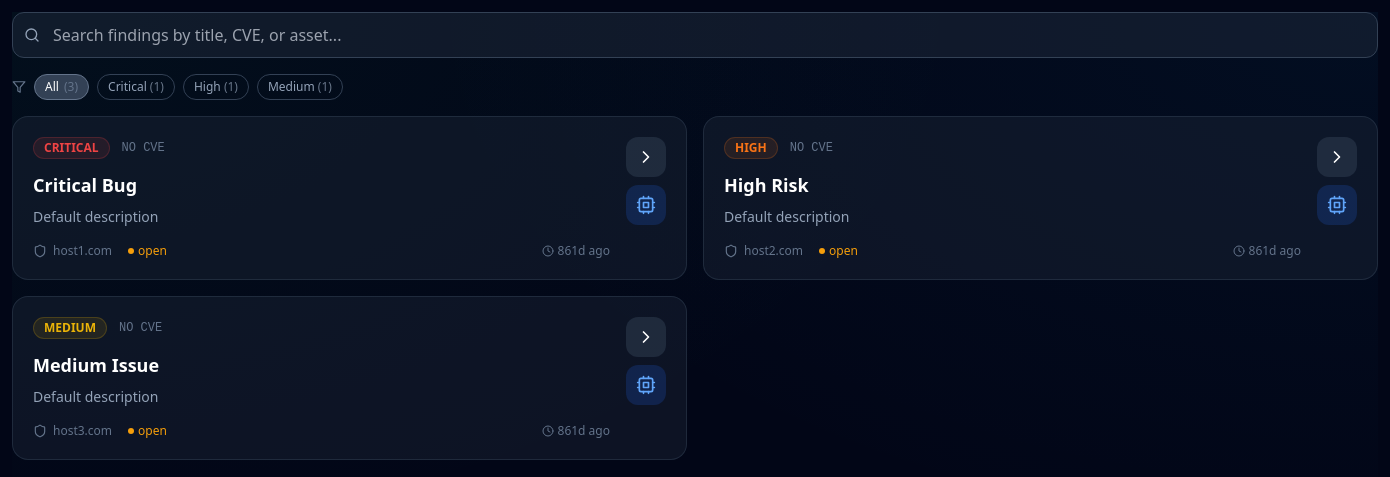
Scenario: VulnerabilityList — severity filter pills › filters vulns when severity pill clicked
Note: Click the "critical" severity pill button
Click the button "critical (1)".
click(136, 87)  # box [97,74,175,100]
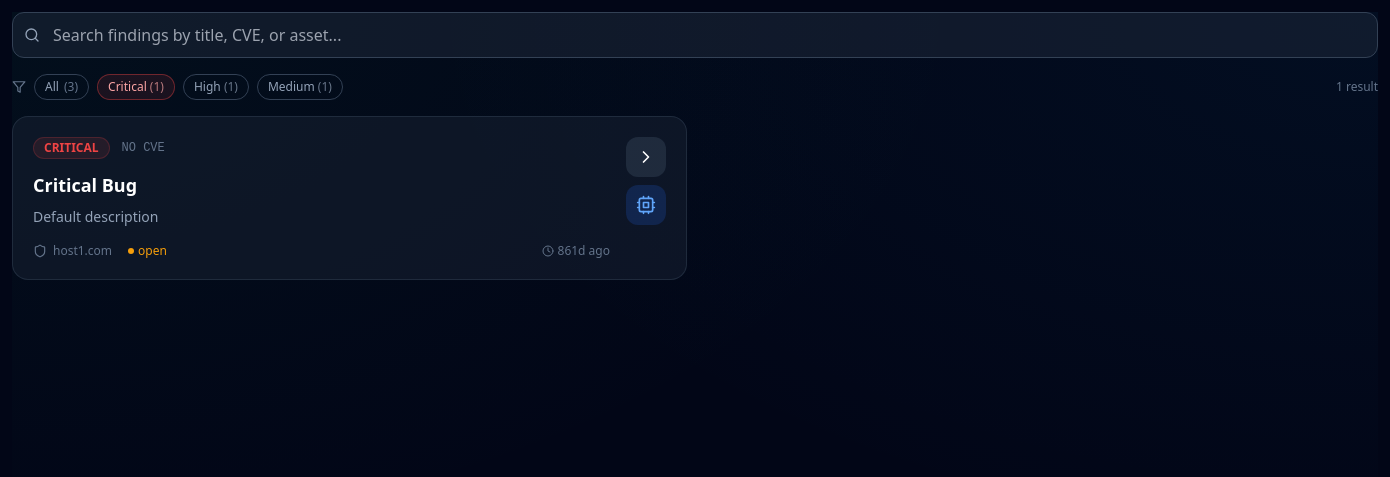
Expected: the heading "Critical Bug" is shown, [33,173,137,197]
Now the heading "High Risk" is gone
Now the heading "Medium Issue" is gone
